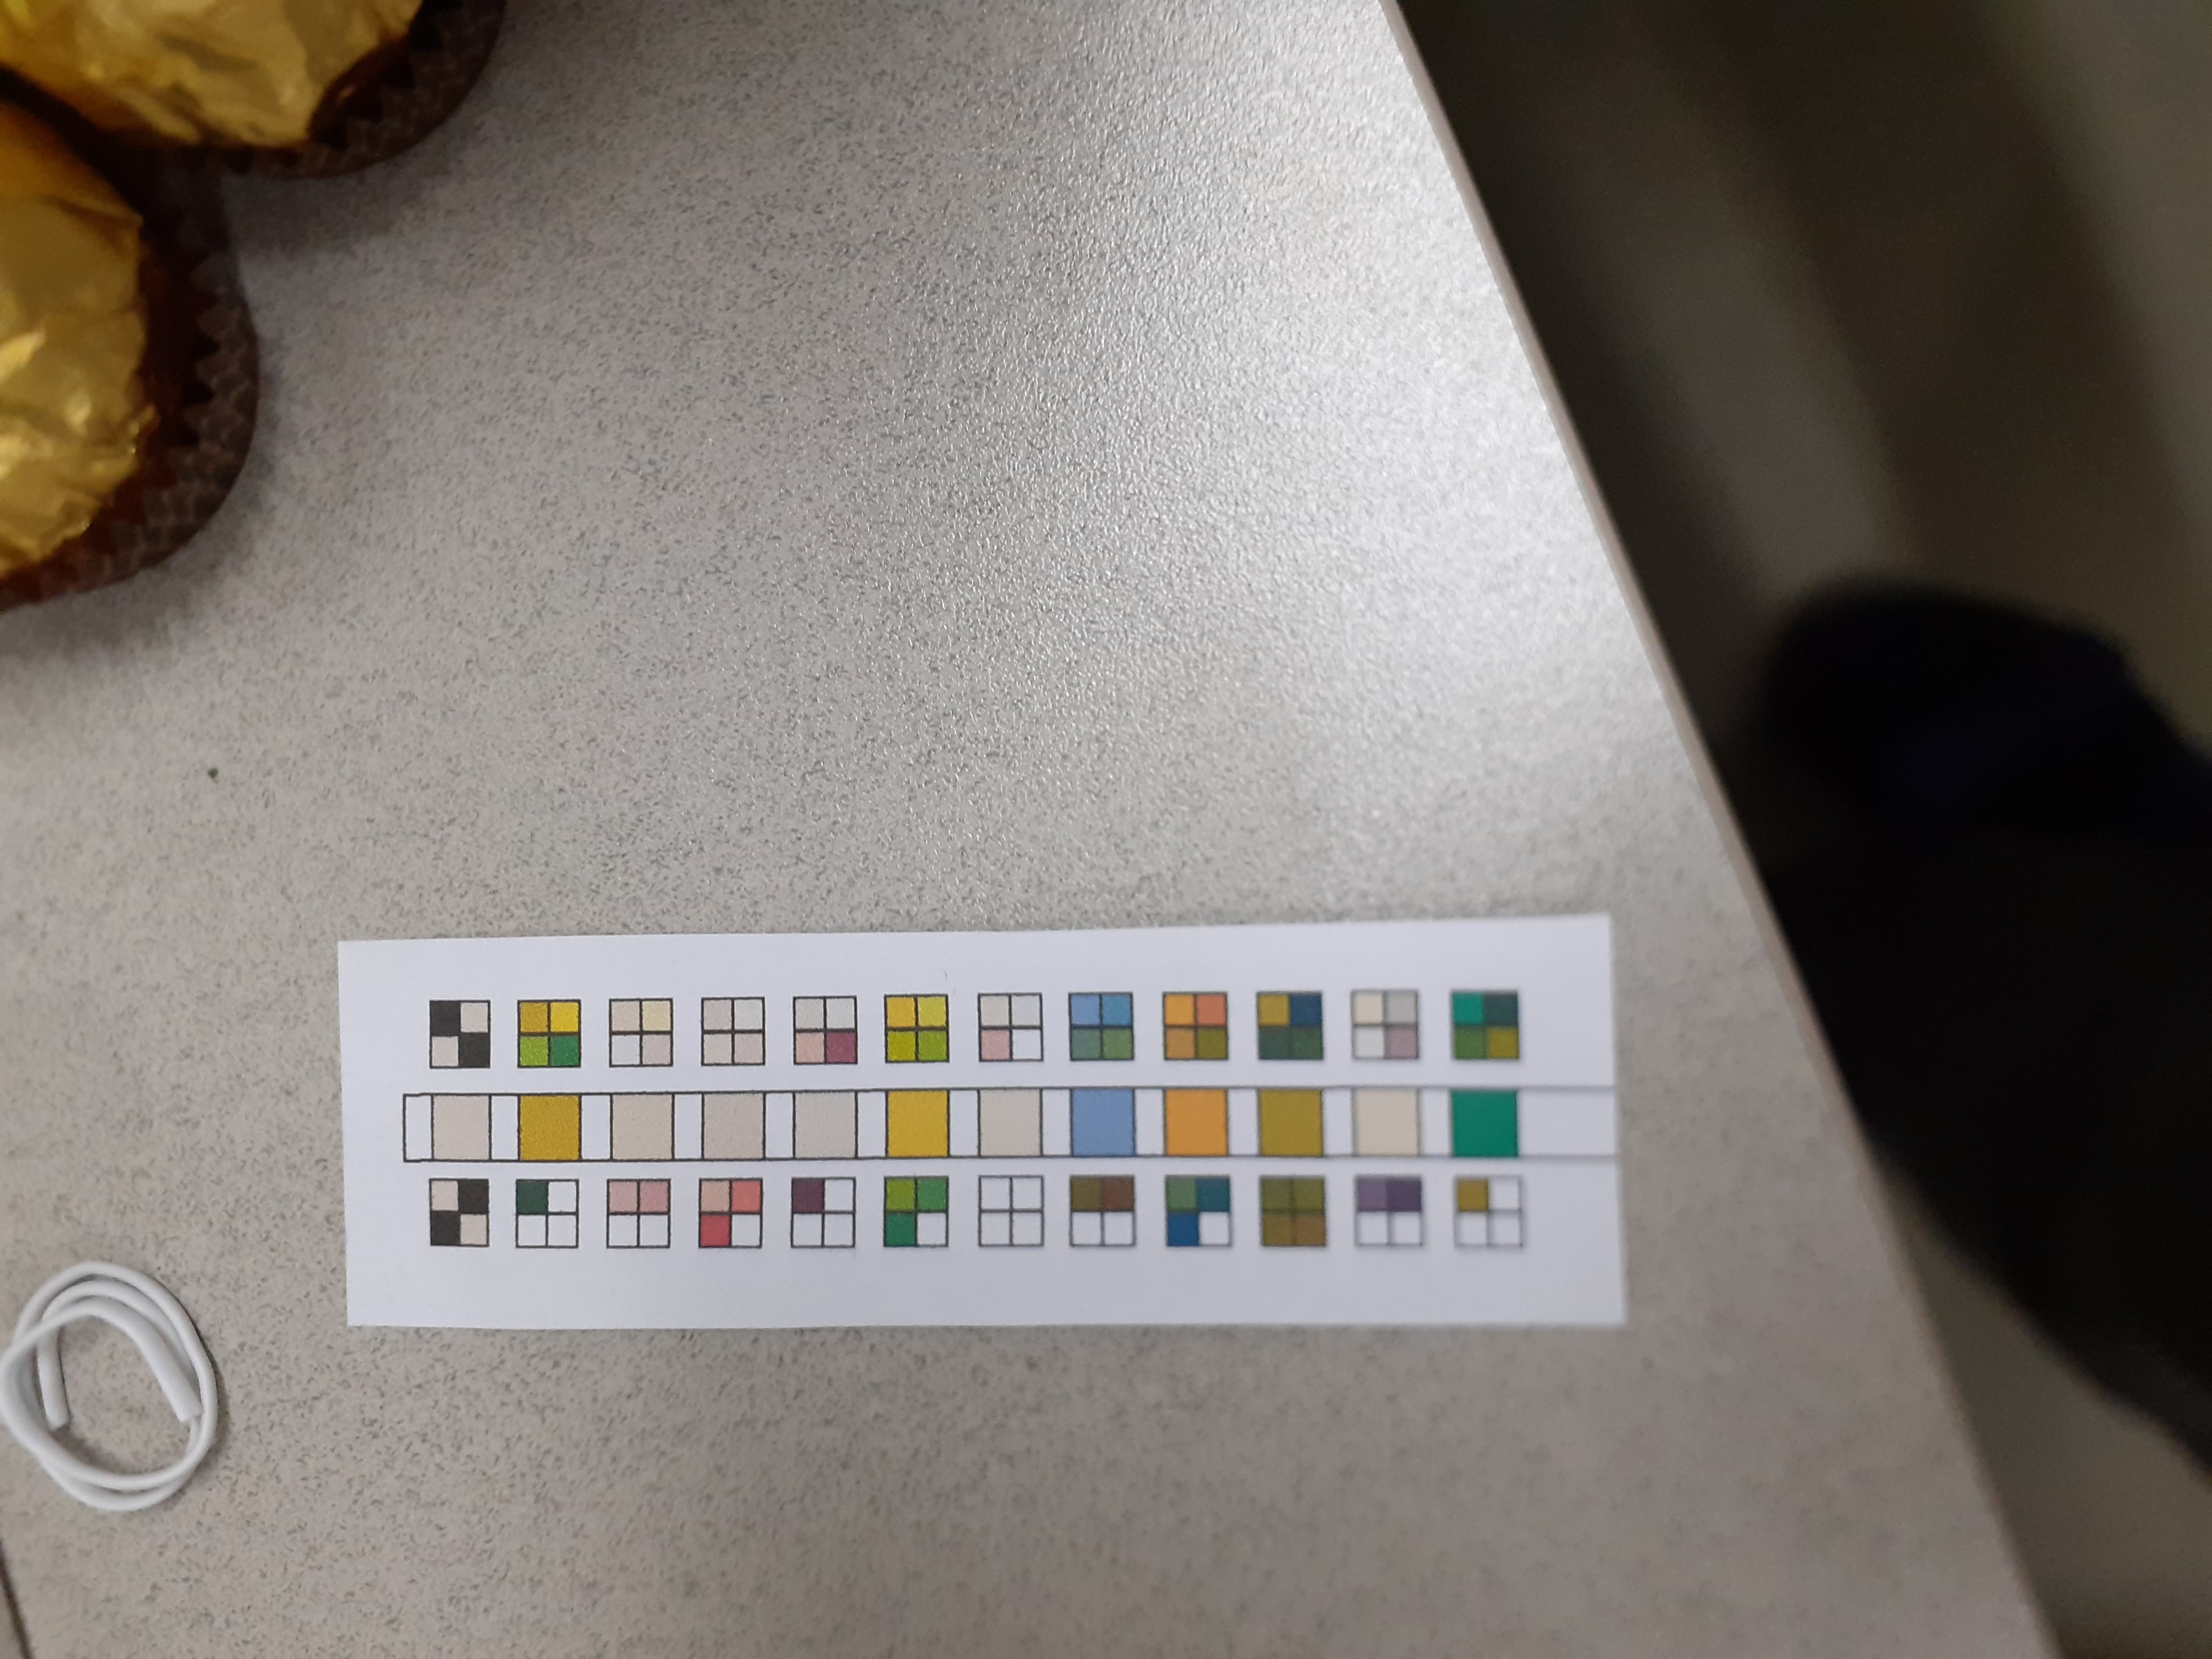tester: (338, 934, 1625, 1335)
